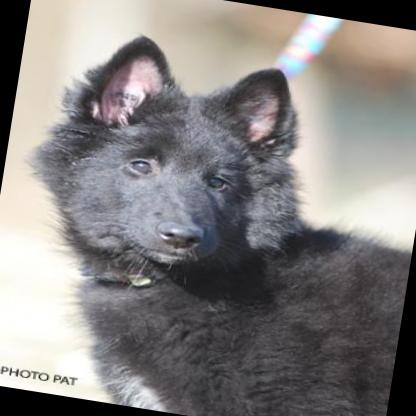groenendael: (0, 17, 416, 416)
